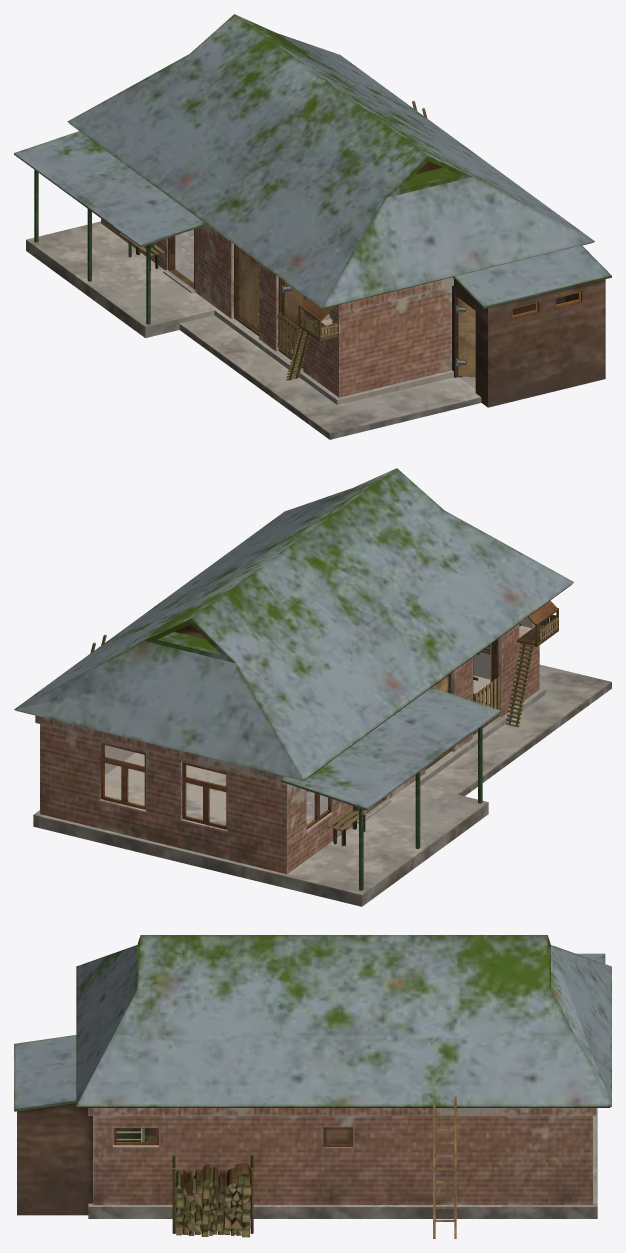
The model's file is sf-rural2.glb.
3 renders of one model, top to bottom at view 1: azimuth 30°, elevation 25°; view 2: azimuth 150°, elevation 25°; view 3: azimuth 270°, elevation 25°, orthographic. The views are drawn at different scales.
Parts seen in each view (by area): view 1: House; view 2: House; view 3: House.
Part boxes in pixels (x1,y1,x2,y2): House: (14,14,611,439); House: (14,468,611,906); House: (14,935,611,1238).
Size of the model in its own units: 9.89 by 5.5 by 13.56.
Materials: 3 (3 with a texture image).
